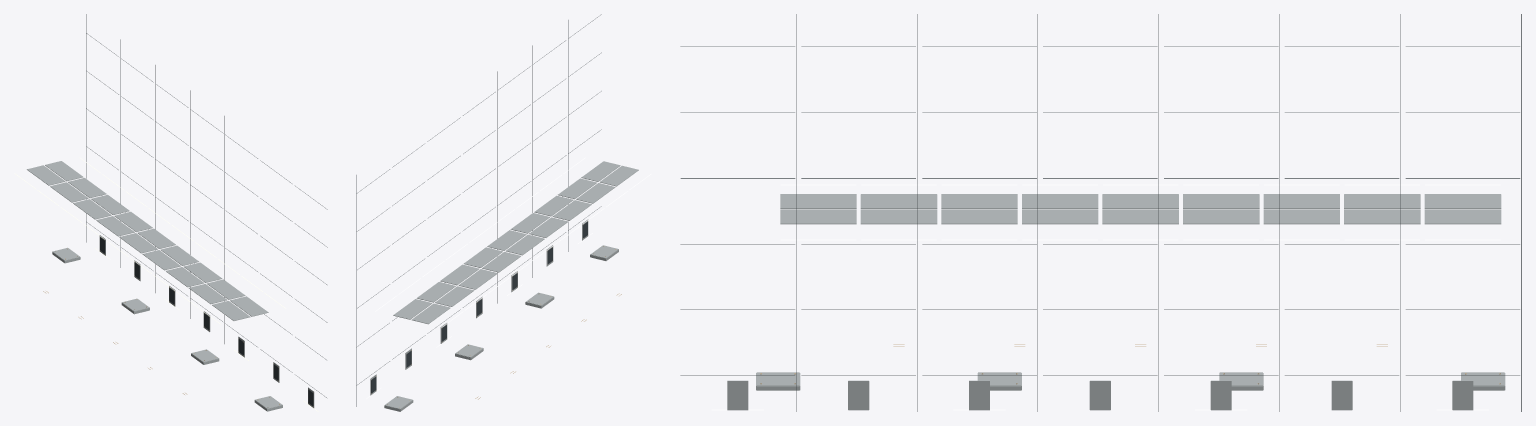
The model's file is A-gallery-east.glb.
The picture shows the model from 3 angles, left to right: view 1: azimuth 30°, elevation 25°; view 2: azimuth 150°, elevation 25°; view 3: azimuth 270°, elevation 25°; orthographic projection. The views are drawn at different scales.
Parts seen in each view (by area): view 1: A-gallery-east-metal, A-gallery-east-basalt, A-gallery-east-luminous; view 2: A-gallery-east-metal, A-gallery-east-basalt, A-gallery-east-luminous; view 3: A-gallery-east-metal, A-gallery-east-basalt, A-gallery-east-luminous.
Boxes of the visible parts, x1,y1,x2,y2 form: A-gallery-east-metal: (27, 161, 314, 411); A-gallery-east-basalt: (86, 14, 327, 405); A-gallery-east-luminous: (14, 157, 318, 411); A-gallery-east-metal: (370, 161, 638, 411); A-gallery-east-basalt: (356, 14, 601, 406); A-gallery-east-luminous: (366, 157, 651, 398); A-gallery-east-metal: (727, 194, 1505, 410); A-gallery-east-basalt: (680, 14, 1521, 411); A-gallery-east-luminous: (712, 184, 1500, 410).
Size of the model in its own units: 8.12 by 21.9 by 41.76.
